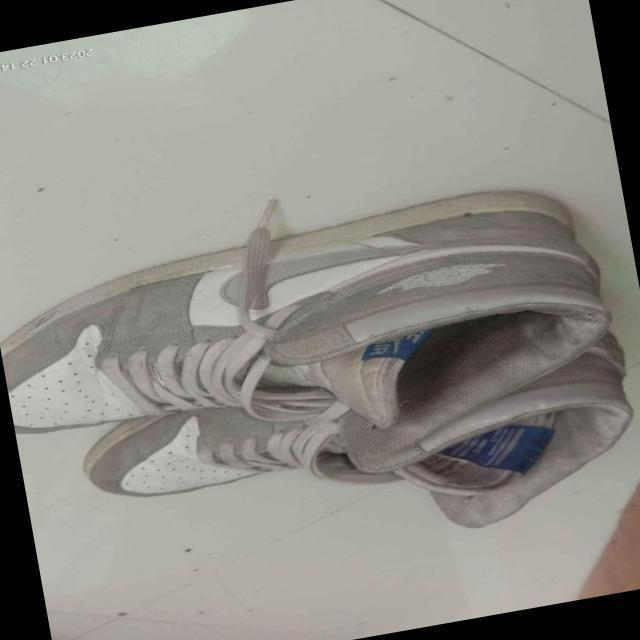nike fake jordan 1: (0, 172, 628, 522), (72, 317, 640, 593)
